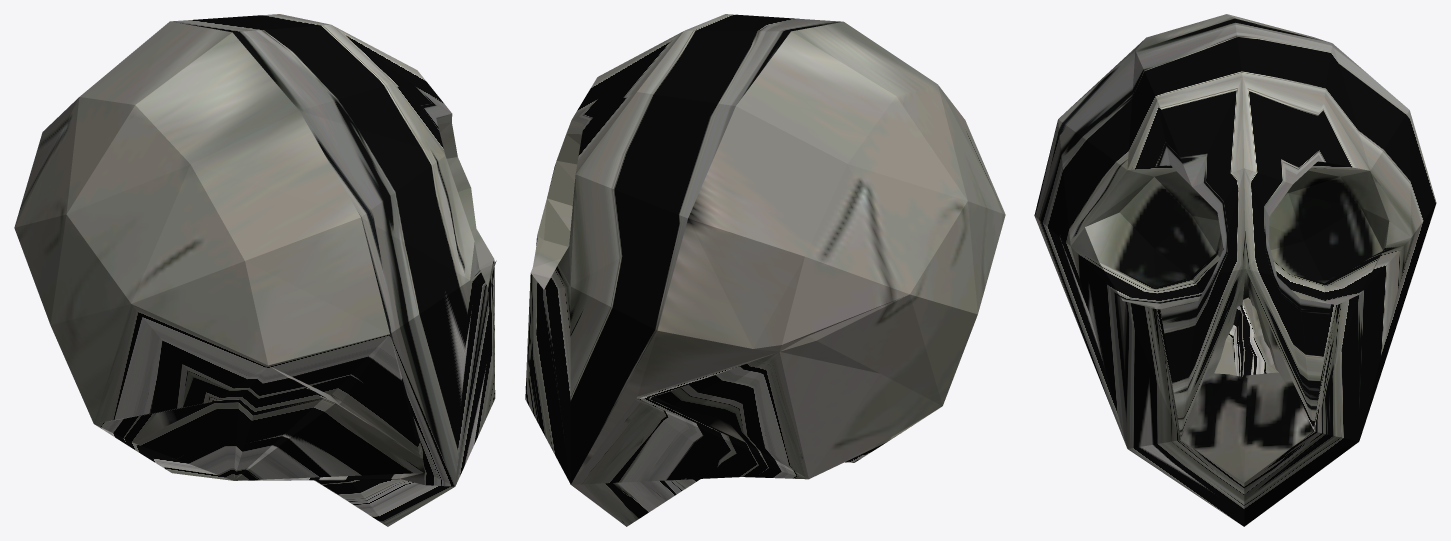
File: Yurik.glb
3 views of the same model, side by side, from view 1: azimuth 30°, elevation 25°; view 2: azimuth 150°, elevation 25°; view 3: azimuth 270°, elevation 25° (orthographic). The views are drawn at different scales.
Visible parts, largest first — view 1: Yurik; view 2: Yurik; view 3: Yurik.
Boxes of the visible parts, x1,y1,x2,y2 form: Yurik: (14,14,496,526); Yurik: (525,14,1005,526); Yurik: (1034,14,1436,526).
Size of the model in its own units: 19.56 by 23.99 by 19.71.
Materials: 1 (1 with a texture image).
